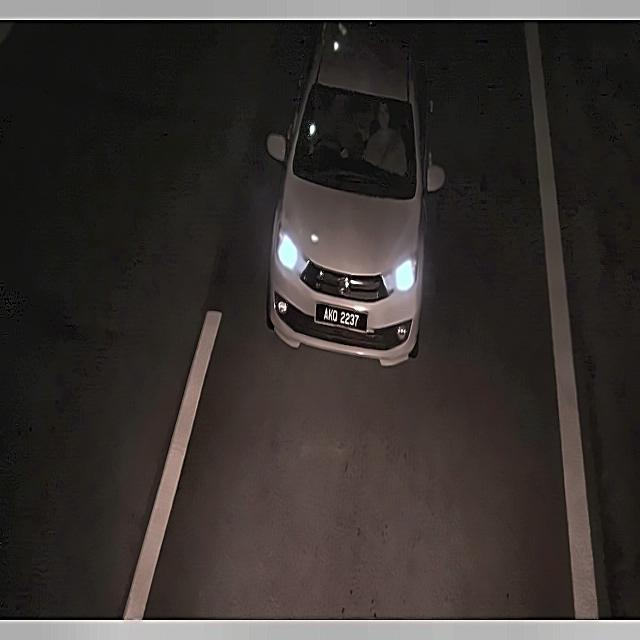car: (312, 292, 372, 340)
